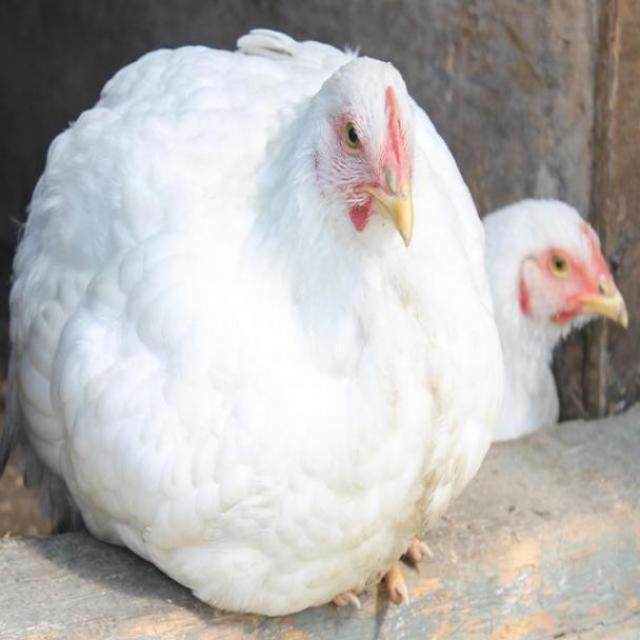Chicken: (38, 29, 500, 596), (478, 171, 629, 464)
